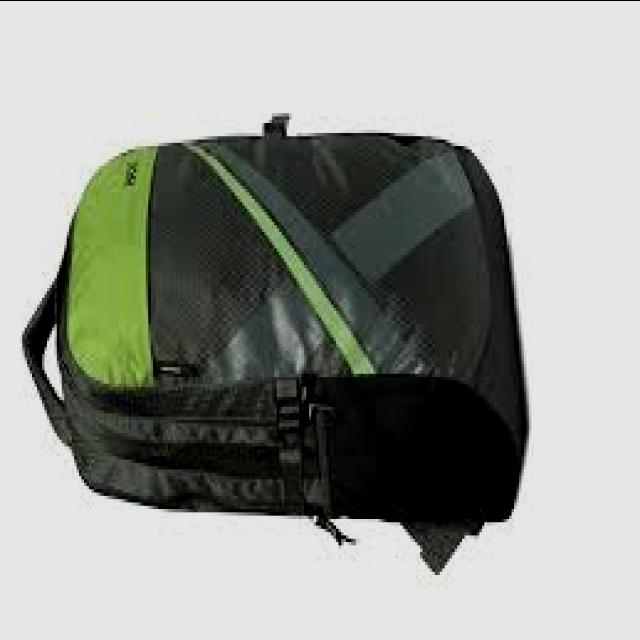backpack: (21, 117, 527, 575)
